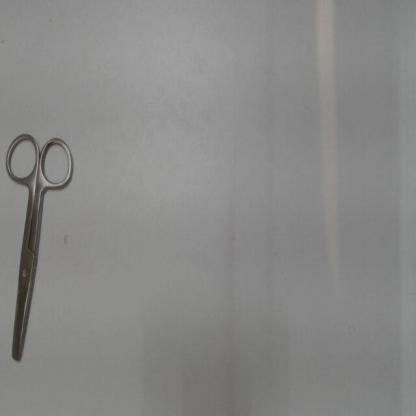Dressing Scissors: (2, 125, 82, 370)
